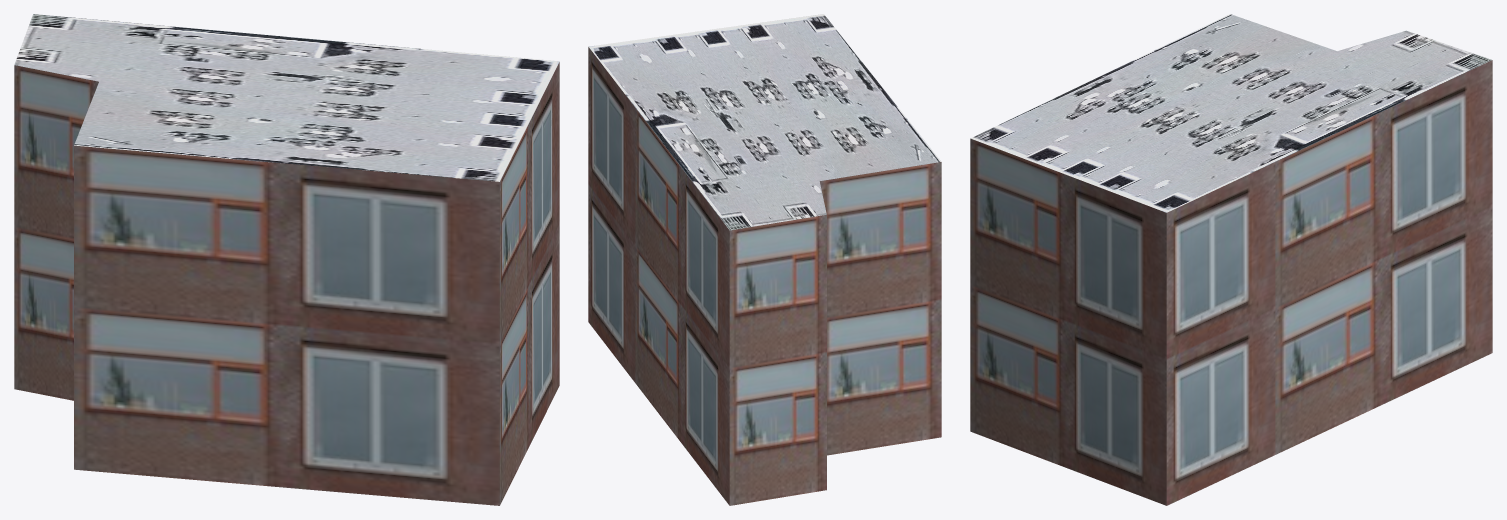
The model's file is ResTex__1025.fbx.
The picture shows the model from 3 angles, left to right: view 1: azimuth 30°, elevation 25°; view 2: azimuth 150°, elevation 25°; view 3: azimuth 270°, elevation 25°; orthographic projection. The views are drawn at different scales.
Visible parts, largest first — view 1: CityEngineMaterial_19_m, CityEngineMaterial_4_m; view 2: CityEngineMaterial_19_m, CityEngineMaterial_4_m; view 3: CityEngineMaterial_19_m, CityEngineMaterial_4_m.
Boxes of the visible parts, x1,y1,x2,y2 form: CityEngineMaterial_19_m: (14,62,559,505); CityEngineMaterial_4_m: (14,14,559,181); CityEngineMaterial_19_m: (588,47,941,505); CityEngineMaterial_4_m: (589,14,941,230); CityEngineMaterial_19_m: (970,60,1492,505); CityEngineMaterial_4_m: (970,14,1491,212).
Bounding box in the file's own units: 8.73 × 6 × 9.69.
2 materials, 2 textured.
